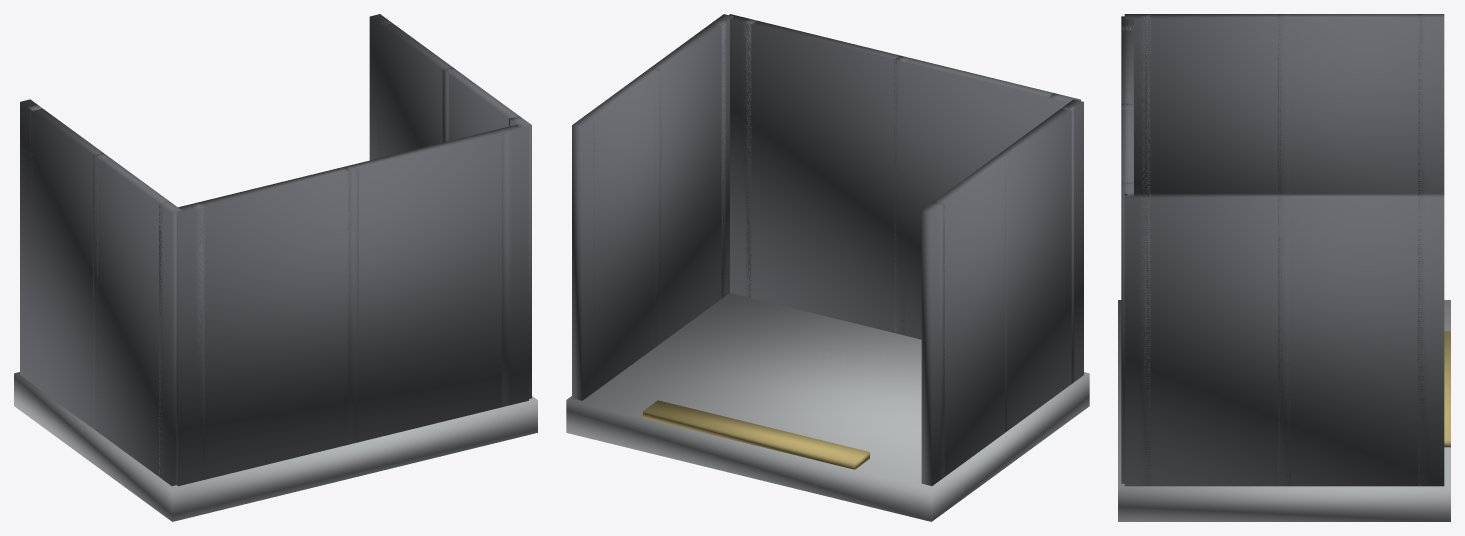
The model's file is landing_steel_w140_d105_door.glb.
3 renders of one model, left to right at view 1: azimuth 30°, elevation 25°; view 2: azimuth 150°, elevation 25°; view 3: azimuth 270°, elevation 25°, orthographic. The views are drawn at different scales.
Parts seen in each view (by area): view 1: world; view 2: world; view 3: world.
Part boxes in pixels (x1,y1,x2,y2): world: (14,14,537,521); world: (566,14,1089,521); world: (1118,14,1450,521).
Size of the model in its own units: 1.4 by 1.12 by 1.05.
